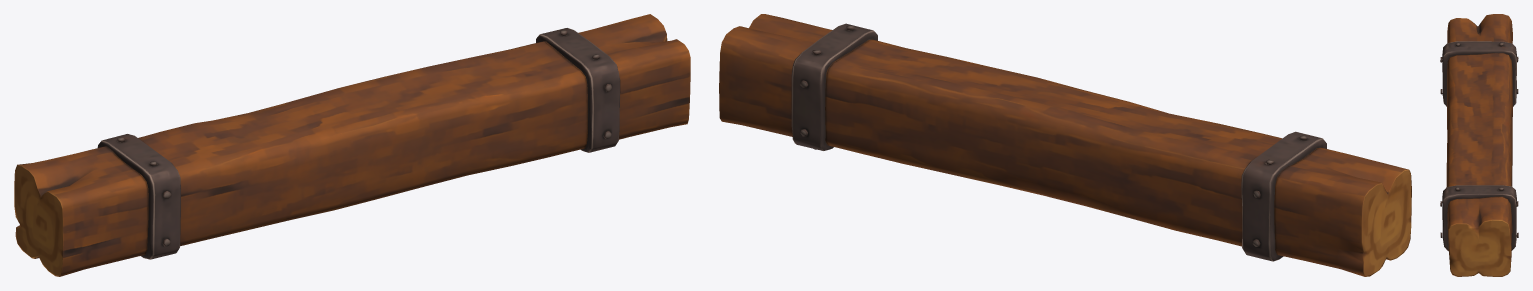
Rendered from beam.glb.
3 views of the same model, side by side, from view 1: azimuth 30°, elevation 25°; view 2: azimuth 150°, elevation 25°; view 3: azimuth 270°, elevation 25° (orthographic). The views are drawn at different scales.
Visible parts, largest first — view 1: geometry_0; view 2: geometry_0; view 3: geometry_0.
Part boxes in pixels (left/top/right/bottom): geometry_0: left=14, top=14, right=690, bottom=276; geometry_0: left=719, top=14, right=1411, bottom=276; geometry_0: left=1440, top=14, right=1518, bottom=276.
Bounding box in the file's own units: 1 × 0.1459 × 0.162.
1 material, 1 textured.
